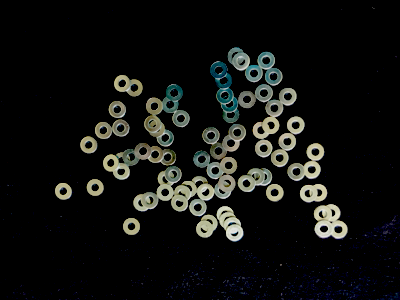circle: (121, 217, 143, 237), (80, 135, 99, 157), (53, 182, 73, 202), (315, 219, 334, 240), (94, 122, 114, 141), (111, 119, 131, 138), (126, 79, 146, 98), (214, 181, 233, 201), (265, 184, 285, 203), (237, 90, 257, 109), (85, 178, 106, 196), (141, 190, 160, 209), (165, 83, 184, 102), (222, 134, 241, 153), (220, 95, 239, 114), (265, 67, 284, 86), (279, 87, 298, 106), (265, 99, 284, 118), (102, 153, 120, 173), (191, 175, 209, 195), (217, 206, 237, 224), (219, 157, 239, 175), (214, 72, 234, 90), (237, 175, 257, 193), (302, 161, 322, 179), (305, 142, 325, 160), (323, 203, 341, 223), (109, 100, 127, 119), (113, 74, 132, 92), (113, 162, 131, 181), (122, 148, 140, 167), (132, 194, 151, 212), (156, 184, 175, 202), (146, 97, 164, 116), (161, 95, 179, 114), (156, 129, 175, 147), (172, 109, 190, 128), (192, 150, 211, 168), (209, 143, 228, 161), (228, 123, 247, 141), (222, 106, 241, 124), (232, 52, 250, 71), (258, 51, 276, 70), (255, 85, 274, 103), (253, 122, 271, 141), (255, 139, 273, 158), (280, 133, 298, 152), (287, 163, 305, 182), (331, 220, 349, 239), (224, 218, 244, 235), (256, 167, 273, 187), (209, 62, 230, 78), (159, 147, 177, 165), (174, 185, 192, 203), (227, 47, 245, 65), (288, 117, 306, 135), (271, 149, 289, 167), (300, 185, 318, 203), (310, 183, 328, 201), (147, 145, 164, 164), (201, 214, 218, 233), (206, 162, 225, 179), (216, 86, 235, 103), (247, 168, 264, 187), (245, 66, 264, 83), (314, 205, 333, 222), (114, 151, 131, 169), (134, 142, 151, 160), (157, 171, 175, 188), (165, 165, 182, 183), (180, 181, 198, 198), (189, 199, 207, 216), (196, 221, 213, 239), (219, 175, 236, 193), (202, 127, 220, 144), (262, 118, 280, 135), (226, 226, 245, 242), (198, 184, 215, 201), (144, 116, 161, 133), (171, 196, 189, 212), (219, 212, 237, 228), (149, 121, 166, 137)
